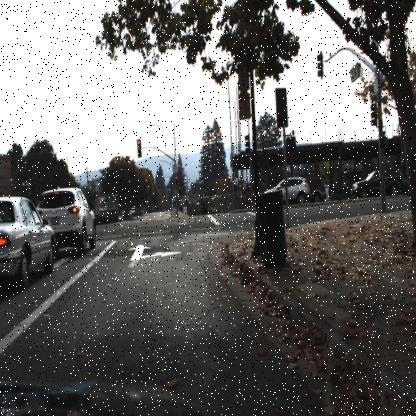car: (0, 196, 58, 281), (34, 184, 98, 256), (43, 186, 98, 256), (348, 166, 404, 200), (352, 167, 402, 196), (263, 176, 307, 202), (306, 178, 328, 202)
trafficLight-Red: (136, 140, 141, 158), (174, 172, 178, 184)
